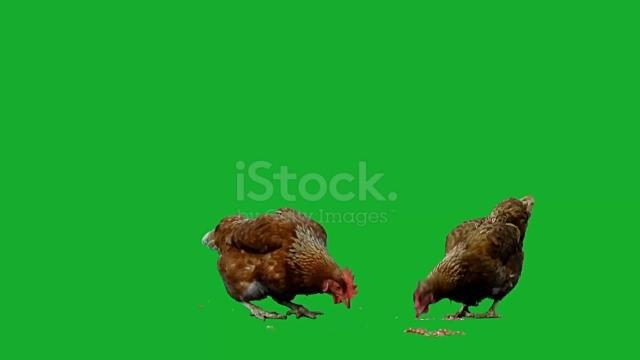AbNormal: (202, 201, 360, 327)
Normal: (402, 189, 541, 324)
